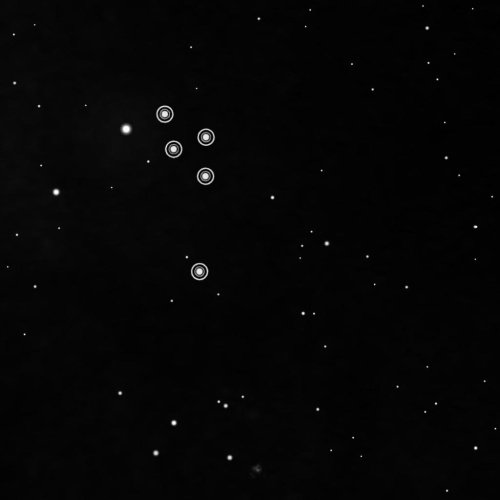delphinus: (151, 100, 220, 285)
